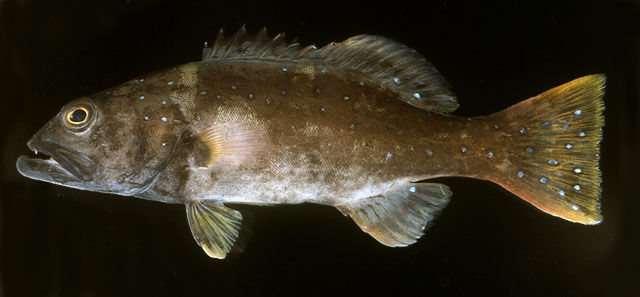fish: (16, 25, 609, 259)
